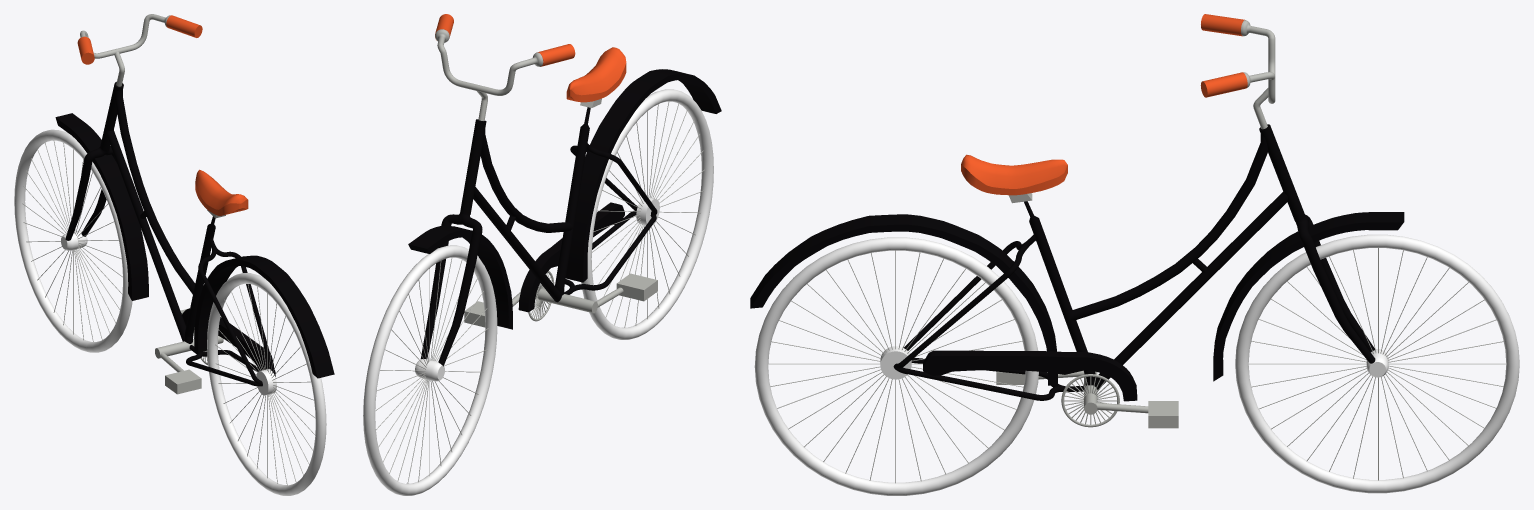
File: sykkel.fbx
3 renders of one model, left to right at view 1: azimuth 30°, elevation 25°; view 2: azimuth 150°, elevation 25°; view 3: azimuth 270°, elevation 25°, orthographic. The views are drawn at different scales.
Visible parts, largest first — view 1: svart, grå, hjul1, hjul2, orang, hjul, hjul3; view 2: svart, grå, hjul2, hjul1, orang, hjul3, hjul; view 3: svart, grå, hjul2, hjul1, orang.
Boxes of the visible parts, box(x1,y1,x2,y2) form: svart: box(55, 81, 334, 386); grå: box(22, 14, 315, 485); hjul1: box(207, 273, 326, 495); hjul2: box(14, 129, 132, 352); orang: box(77, 15, 248, 215); hjul: box(256, 369, 276, 395); hjul3: box(61, 230, 87, 250); svart: box(408, 69, 721, 366); grå: box(375, 29, 704, 483); hjul2: box(363, 245, 497, 495); hjul1: box(581, 89, 713, 339); orang: box(435, 14, 626, 102); hjul3: box(415, 359, 444, 381); hjul: box(636, 197, 659, 225); svart: box(750, 124, 1404, 401); grå: box(768, 20, 1505, 483); hjul2: box(1235, 234, 1519, 493); hjul1: box(754, 237, 1038, 495); orang: box(961, 14, 1247, 195).
Bounding box in the file's own units: 4.96 × 14.08 × 21.9.
Materials: 4 (4 with a texture image).
